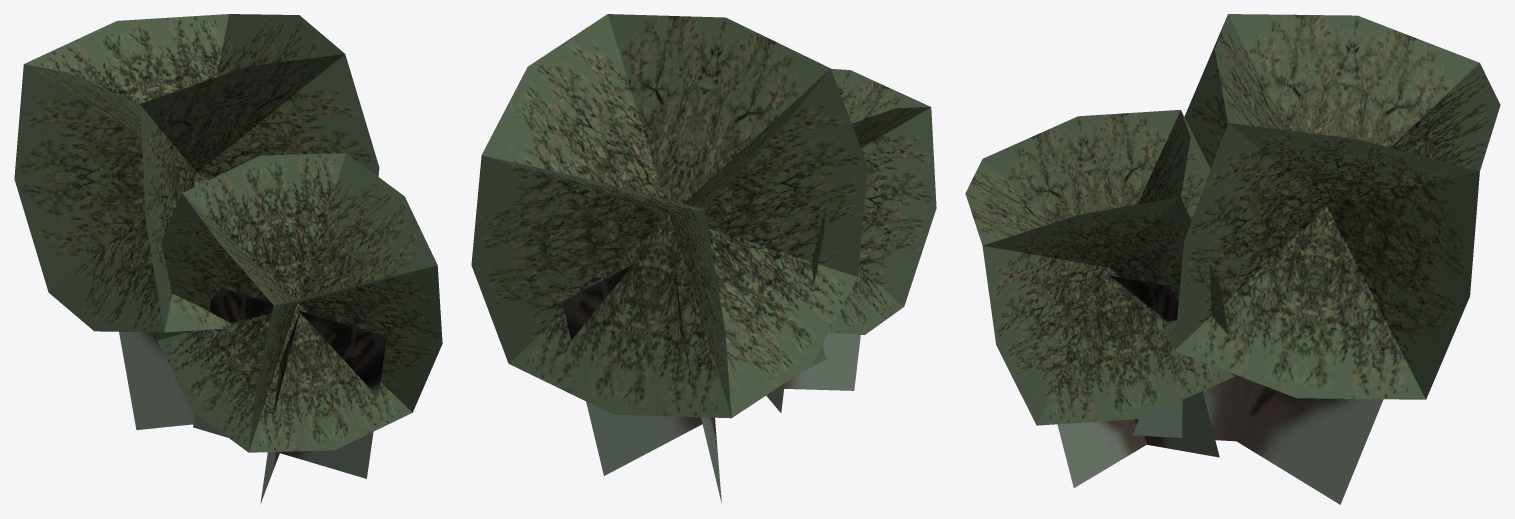
The model's file is decd_lok_mkpud_a1_l0.fbx.
3 renders of one model, left to right at view 1: azimuth 30°, elevation 25°; view 2: azimuth 150°, elevation 25°; view 3: azimuth 270°, elevation 25°, orthographic. The views are drawn at different scales.
Parts seen in each view (by area): view 1: mesh_node; view 2: mesh_node; view 3: mesh_node.
Boxes of the visible parts, x1,y1,x2,y2 form: mesh_node: (14, 14, 442, 504); mesh_node: (471, 14, 936, 503); mesh_node: (965, 14, 1500, 504).
Bounding box in the file's own units: 1.84 × 2.96 × 3.37.
